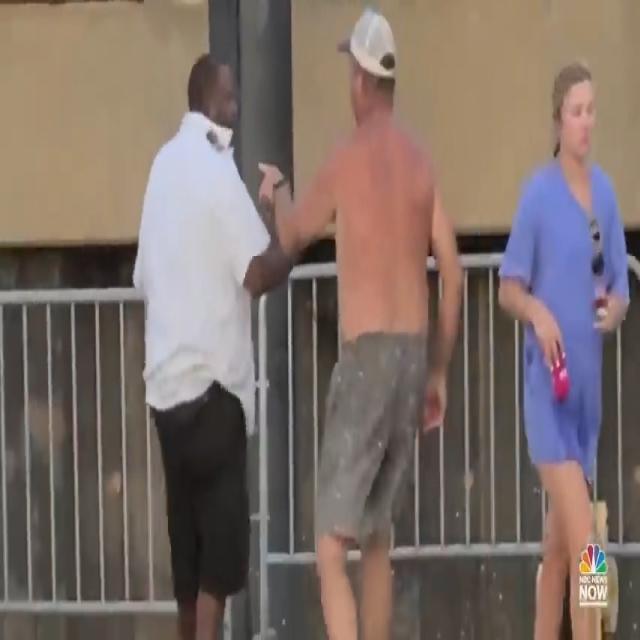non-fight: (126, 4, 473, 640), (487, 61, 637, 640)
